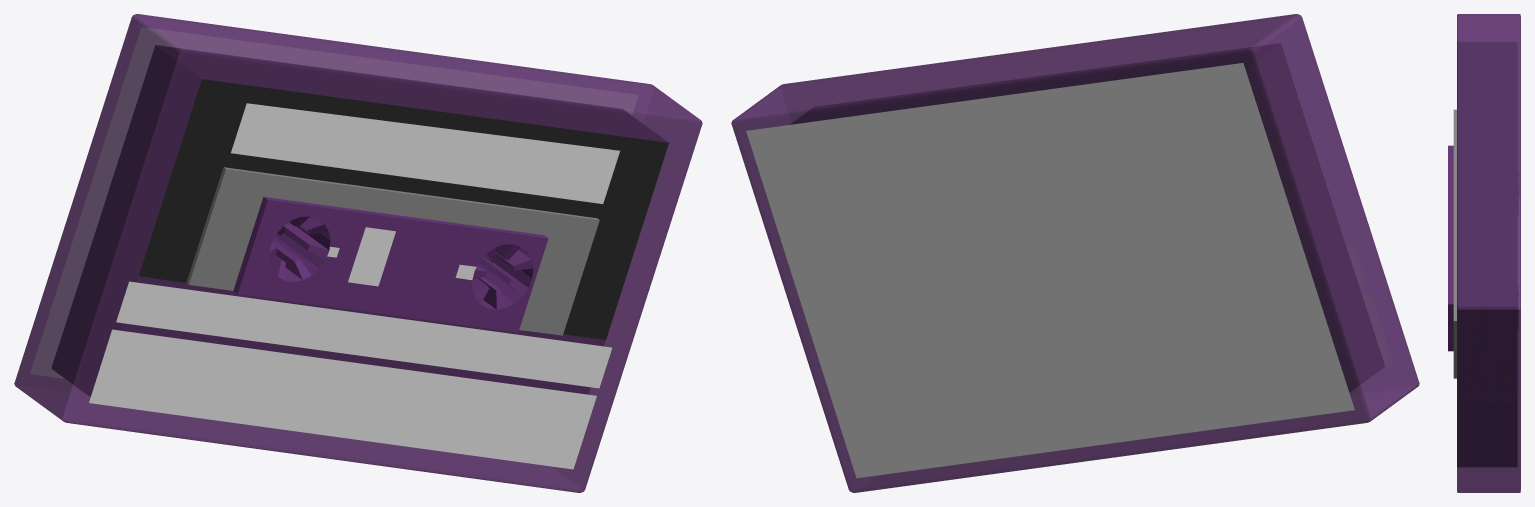
File: Cassette_Purple.fbx
The picture shows the model from 3 angles, left to right: view 1: azimuth 30°, elevation 25°; view 2: azimuth 150°, elevation 25°; view 3: azimuth 270°, elevation 25°; orthographic projection. The views are drawn at different scales.
Parts seen in each view (by area): view 1: Cube; view 2: Cube; view 3: Cube.
Part boxes in pixels (bbox=[...]): Cube: bbox=[14, 14, 702, 492]; Cube: bbox=[731, 14, 1419, 492]; Cube: bbox=[1448, 14, 1520, 492].
Size of the model in its own units: 184 by 148 by 27.78.
